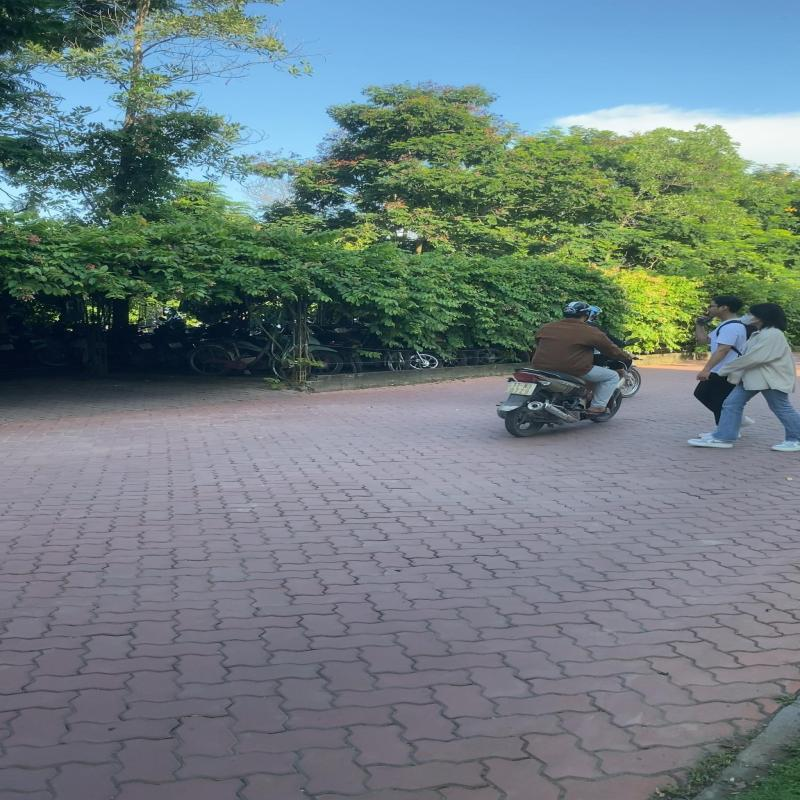helmet: (561, 300, 593, 322)
licenseplate: (503, 380, 537, 397)
motorcyclist: (494, 300, 648, 446)
